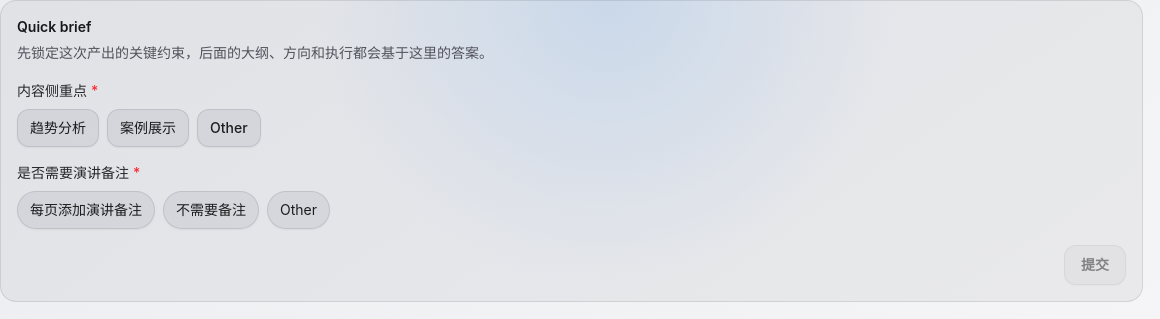
Test: HomeHarnessInteractionForm › shows a check icon for selected radio and checkbox quick brief options
Click the button "趋势分析" at (58, 128), box x1=17 y1=109 x2=99 y2=147
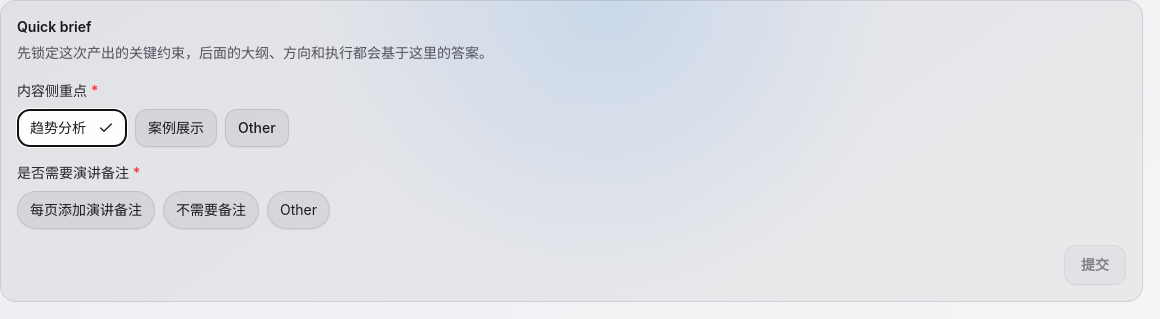
Click the button "每页添加演讲备注" at (86, 210), box x1=17 y1=191 x2=155 y2=229
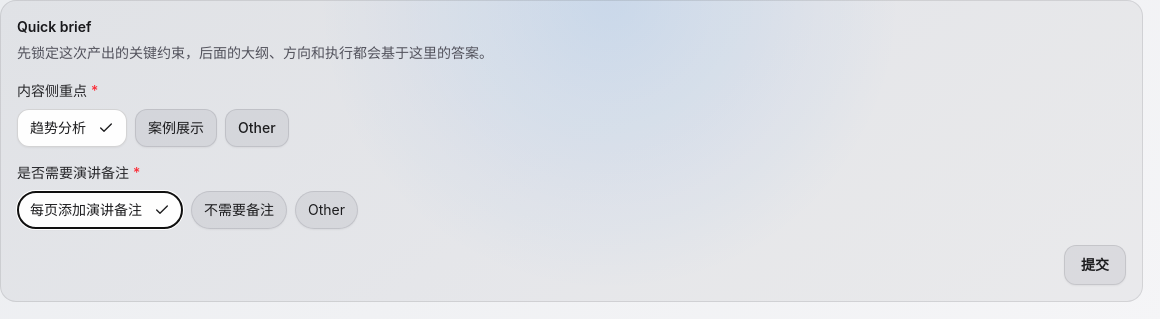
Expected: the icon with class "lucide-check" below "内容侧重点" is shown, x1=98 y1=120 x2=114 y2=136
Expected: the icon with class "lucide-check" below "是否需要演讲备注" is shown, x1=154 y1=202 x2=170 y2=218
Expected: the number of icons with class "lucide-check" is 2, x1=98 y1=120 x2=114 y2=136; x1=154 y1=202 x2=170 y2=218
